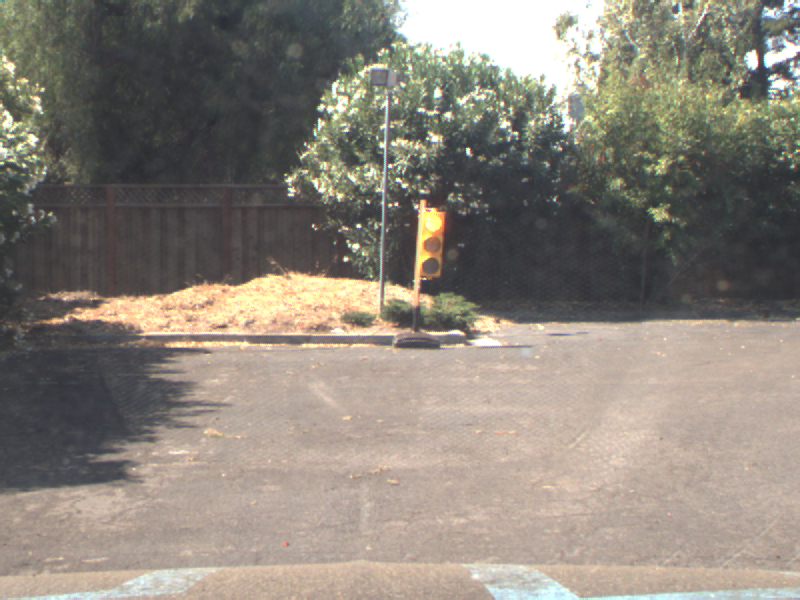red: (415, 199, 444, 281)
